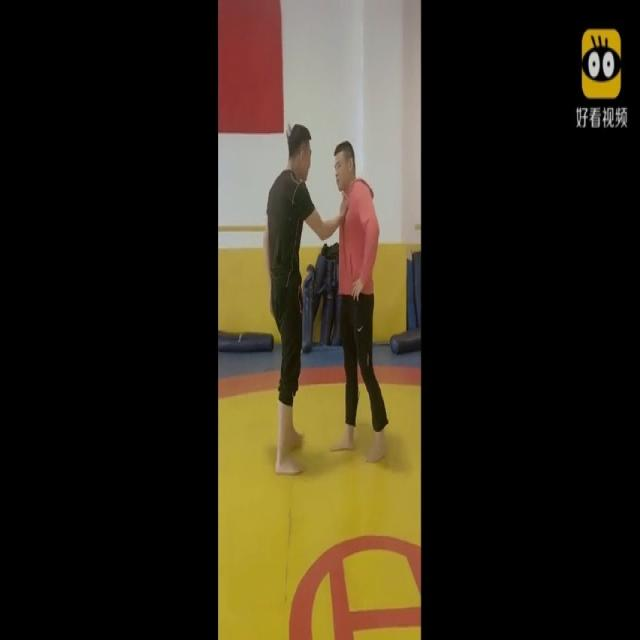fight: (261, 123, 386, 473)
